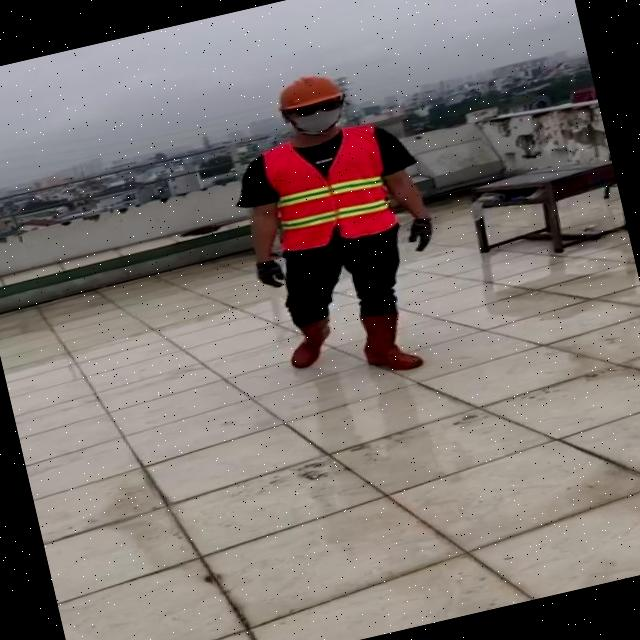boots: (353, 304, 428, 378), (280, 312, 344, 370)
